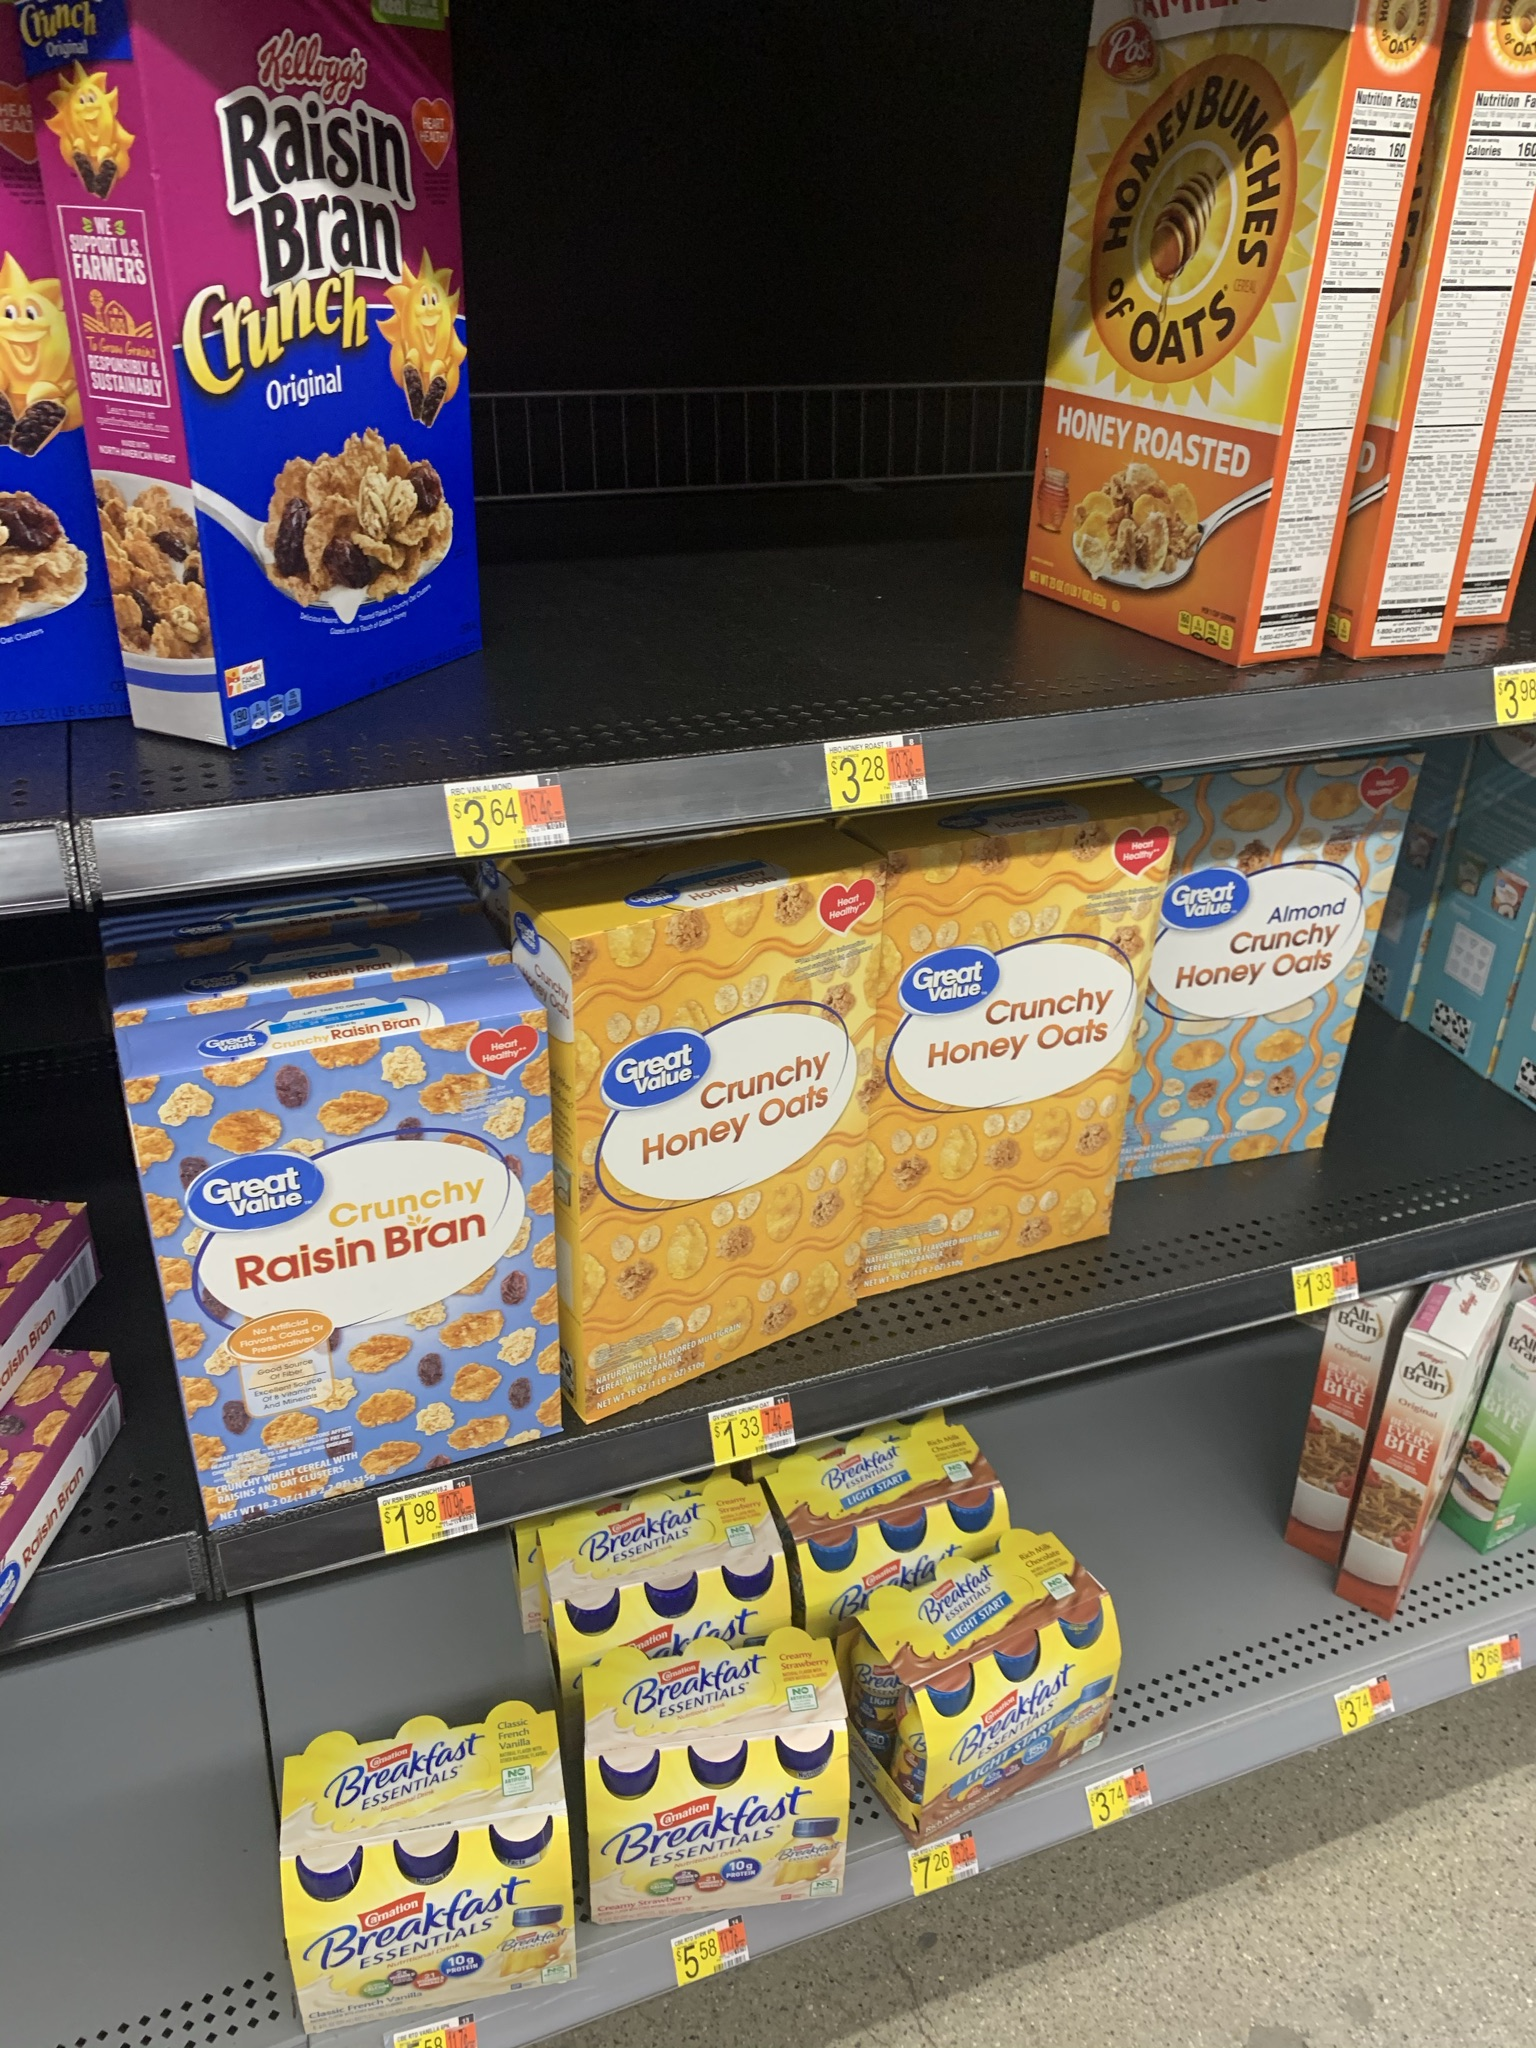box: (129, 26, 440, 643), (190, 1072, 552, 1434), (1102, 31, 1320, 627), (600, 930, 858, 1321), (895, 872, 1117, 1243), (1189, 800, 1342, 1156)
